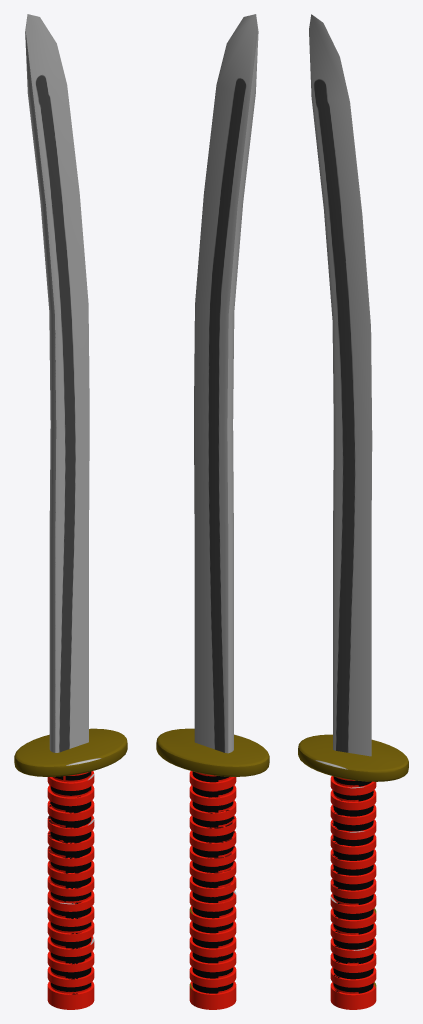
The model's file is Sword.fbx.
The picture shows the model from 3 angles, left to right: view 1: azimuth 30°, elevation 25°; view 2: azimuth 150°, elevation 25°; view 3: azimuth 330°, elevation 25°; orthographic projection. The views are drawn at different scales.
Visible parts, largest first — view 1: Sword; view 2: Sword; view 3: Sword.
Part boxes in pixels (x1=…): Sword: x1=14, y1=14, x2=127, y2=1009; Sword: x1=156, y1=14, x2=269, y2=1009; Sword: x1=298, y1=14, x2=408, y2=1009.
Bounding box in the file's own units: 151 × 1349 × 93.33.
1 material, 1 textured.
